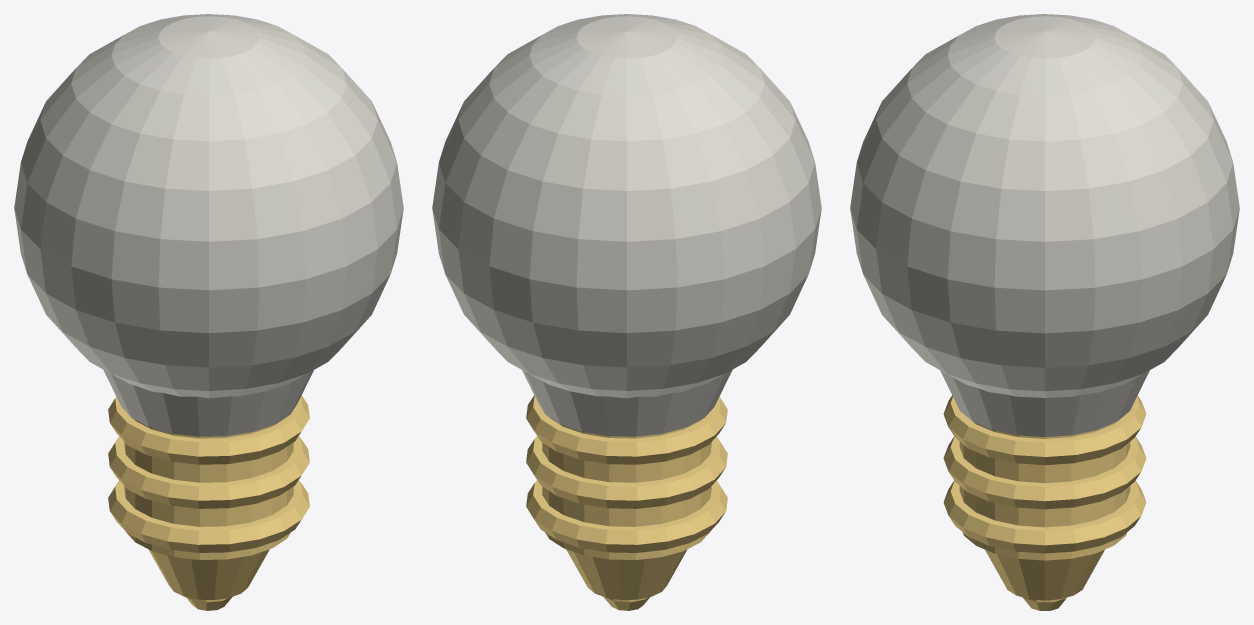
Rendered from Bulb.fbx.
3 renders of one model, left to right at view 1: azimuth 30°, elevation 25°; view 2: azimuth 150°, elevation 25°; view 3: azimuth 270°, elevation 25°, orthographic.
Visible parts, largest first — view 1: Body.003, Trim.002; view 2: Body.003, Trim.002; view 3: Body.003, Trim.002.
Boxes of the visible parts, left/top/right/bottom form: Body.003: left=14, top=14, right=403, bottom=436; Trim.002: left=108, top=395, right=309, bottom=610; Body.003: left=432, top=14, right=821, bottom=436; Trim.002: left=526, top=395, right=727, bottom=610; Body.003: left=850, top=14, right=1239, bottom=437; Trim.002: left=943, top=395, right=1146, bottom=610.
Bounding box in the file's own units: 0.96 × 1.57 × 0.96.
